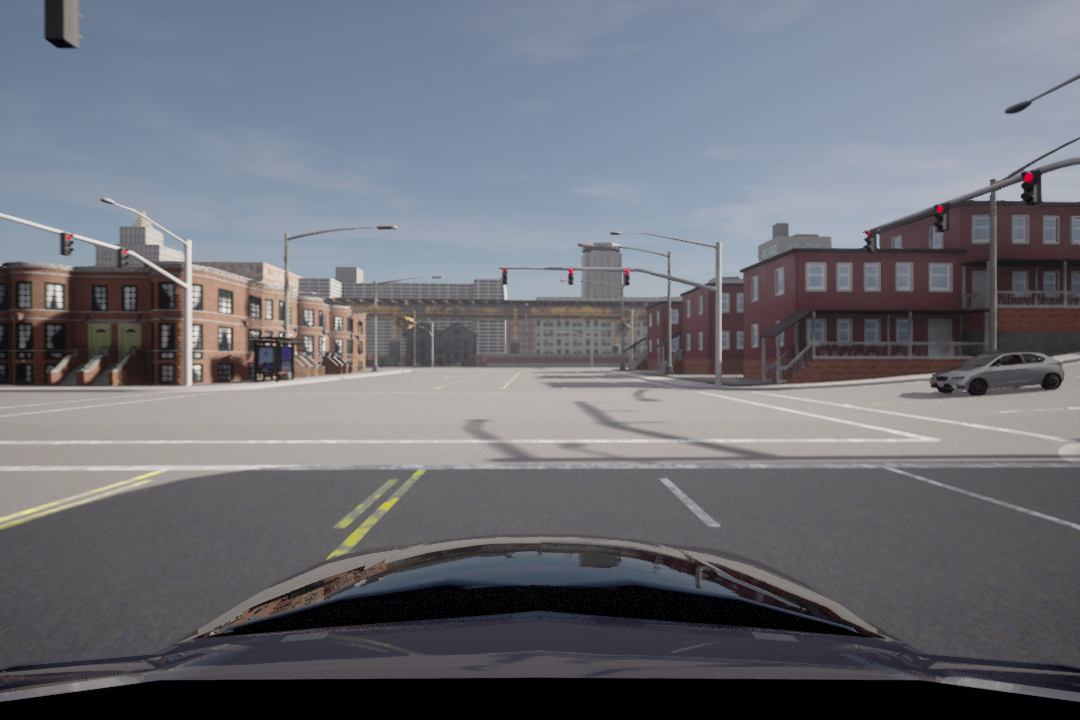TrafficLight: (1017, 169, 1042, 209), (933, 204, 951, 231), (57, 230, 73, 255), (864, 229, 878, 252), (118, 244, 131, 268), (623, 268, 633, 291), (567, 269, 575, 290), (501, 268, 508, 288)
